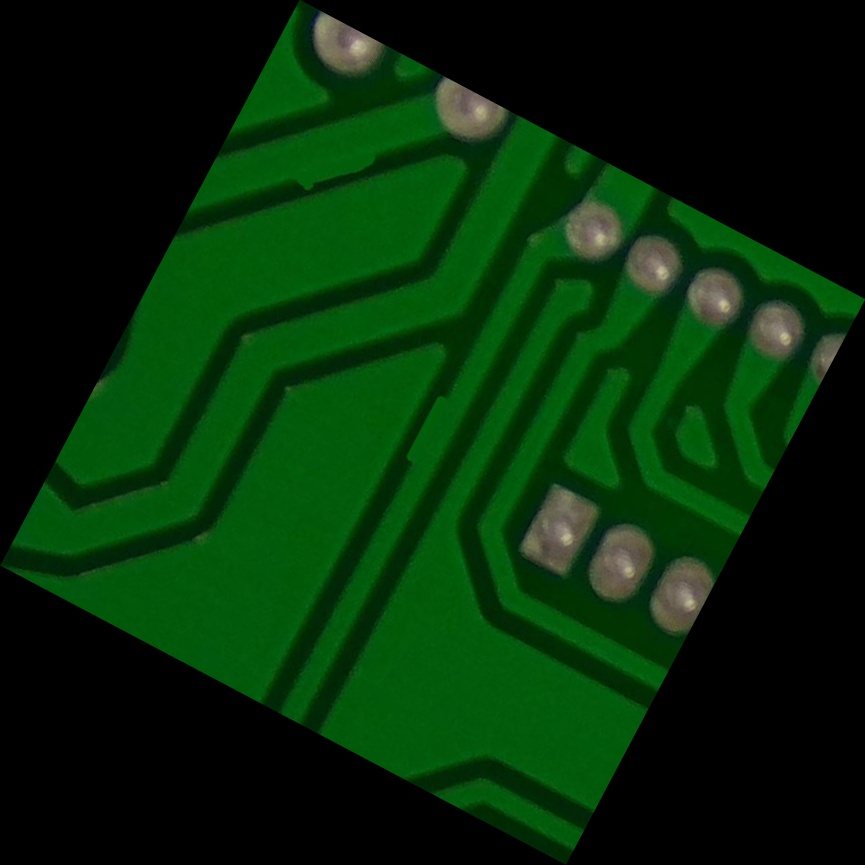spur: (383, 372, 481, 494)
